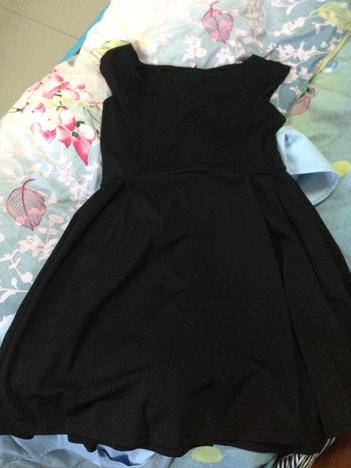S_dress: (1, 41, 351, 460)
